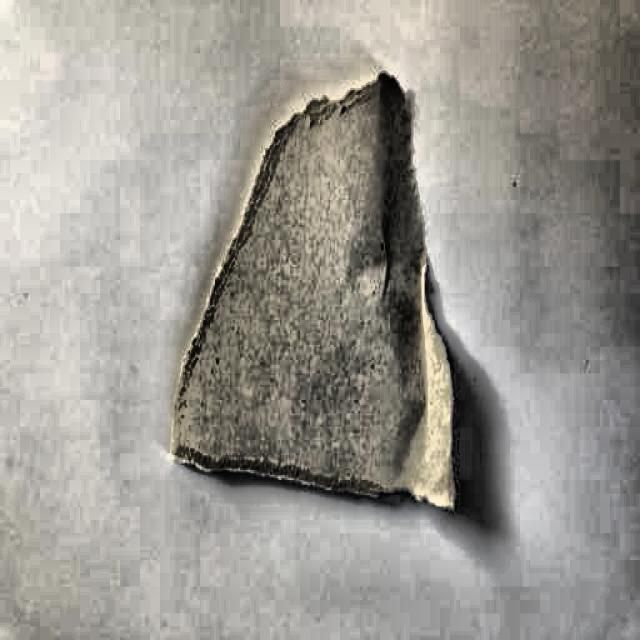paper: (169, 71, 469, 514)
